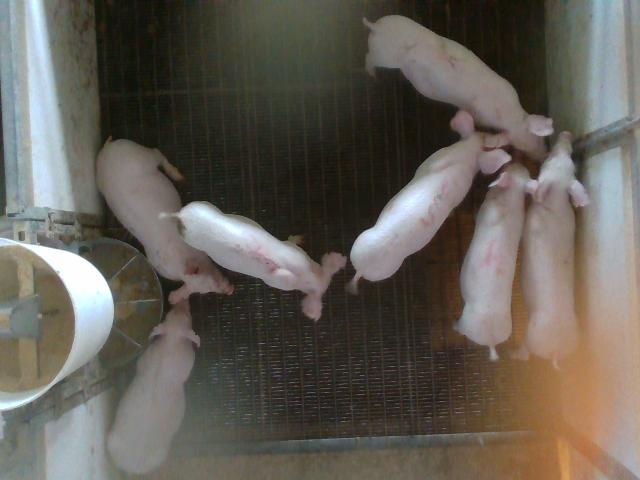pig-3: (346, 111, 511, 292)
pig-4: (455, 162, 538, 359)
pig-5: (171, 201, 345, 321)
